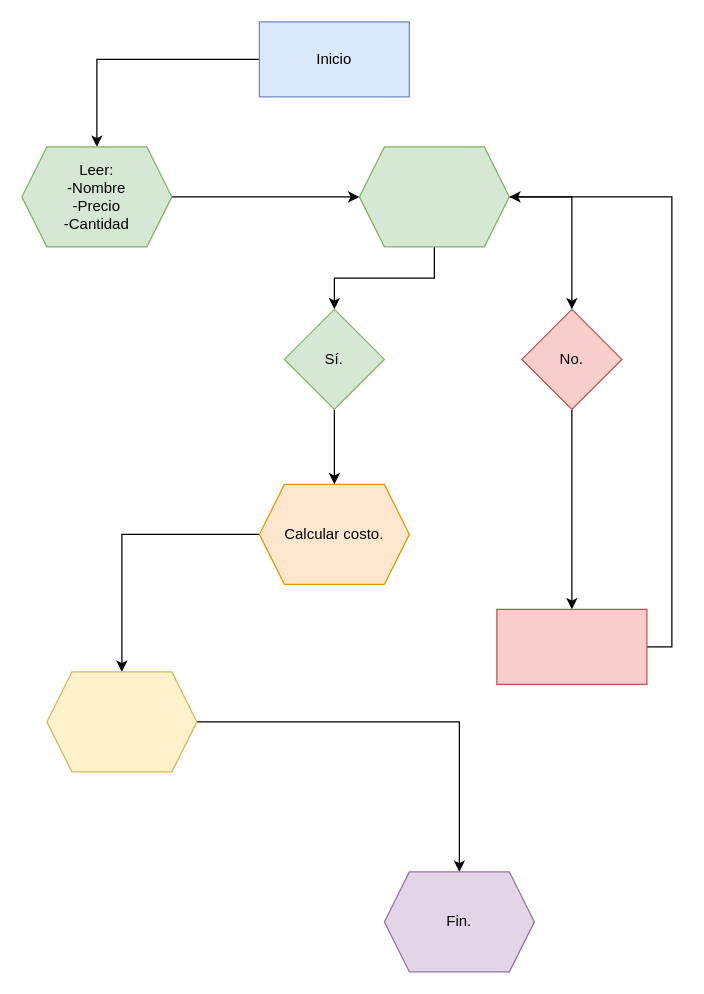
Some shapes in this 704 by 994 pixel diagram are drawn without their labels. Here are the shapes that lost their labels. From the top down, the box of each, then its label:
(358, 146, 509, 247): Ingresa los datos correctos.
(496, 608, 647, 684): Mostrar error.
(46, 671, 197, 772): Mostrar resultado.
